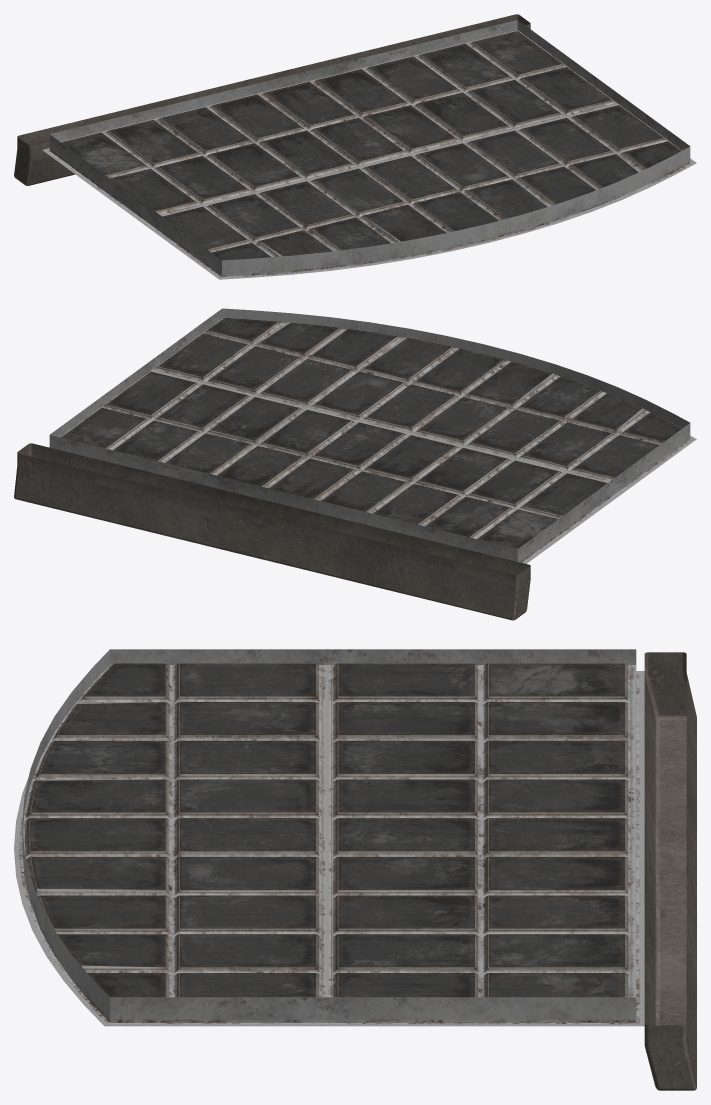
Rendered from window_centered_large_02.gltf.
The picture shows the model from 3 angles, top to bottom: view 1: azimuth 30°, elevation 25°; view 2: azimuth 150°, elevation 25°; view 3: azimuth 270°, elevation 25°; orthographic projection. The views are drawn at different scales.
Parts seen in each view (by area): view 1: window_centered_large_02; view 2: window_centered_large_02; view 3: window_centered_large_02.
Part boxes in pixels (left/top/right/bottom): window_centered_large_02: left=14, top=14, right=696, bottom=279; window_centered_large_02: left=14, top=308, right=696, bottom=620; window_centered_large_02: left=14, top=649, right=696, bottom=1090.
Bounding box in the file's own units: 2.1 × 0.2167 × 1.62.
Materials: 2 (2 with a texture image).
